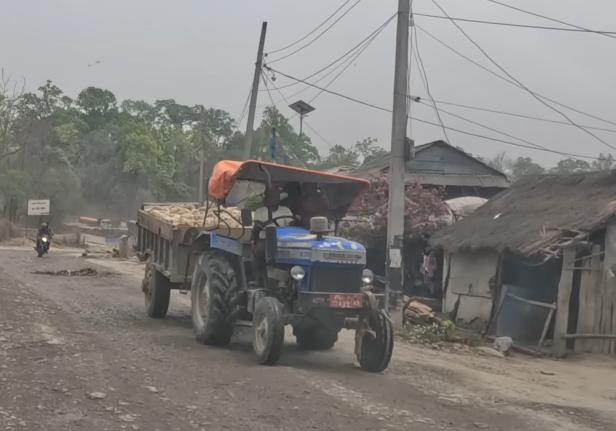bike: (33, 228, 54, 261)
tractor: (131, 154, 396, 378)
